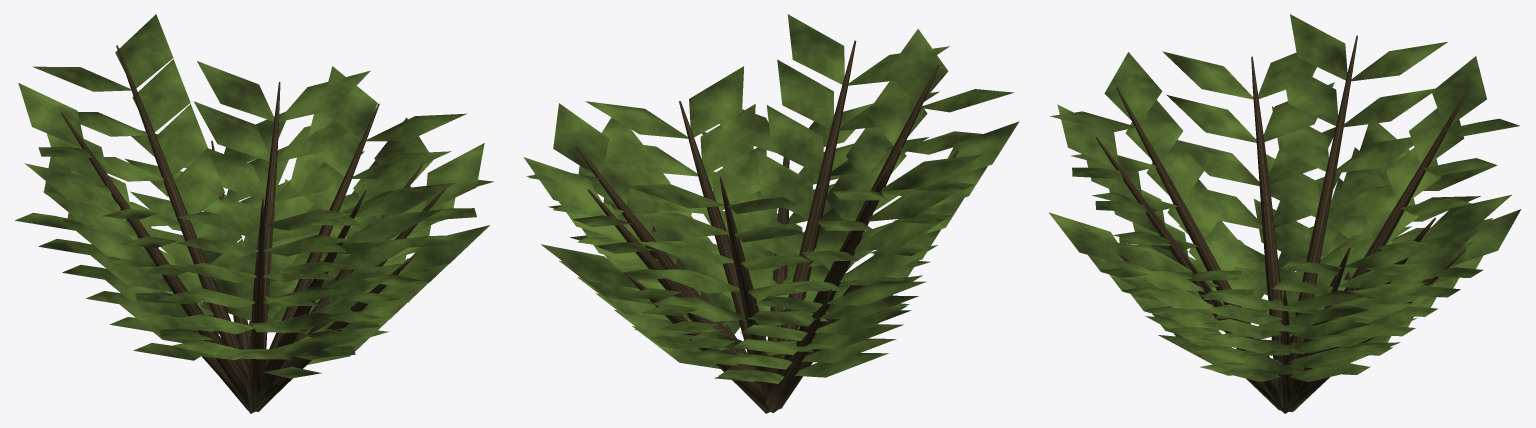
File: shrub_laurel.glb
The picture shows the model from 3 angles, left to right: view 1: azimuth 30°, elevation 25°; view 2: azimuth 150°, elevation 25°; view 3: azimuth 270°, elevation 25°; orthographic projection. The views are drawn at different scales.
Visible parts, largest first — view 1: shrub_laurelMesh; view 2: shrub_laurelMesh; view 3: shrub_laurelMesh.
Boxes of the visible parts, box(x1,y1,x2,y2) form: shrub_laurelMesh: box(15, 14, 493, 413); shrub_laurelMesh: box(523, 14, 1019, 413); shrub_laurelMesh: box(1049, 14, 1521, 413).
Bounding box in the file's own units: 1.63 × 1.14 × 1.62.
Materials: 2 (2 with a texture image).
